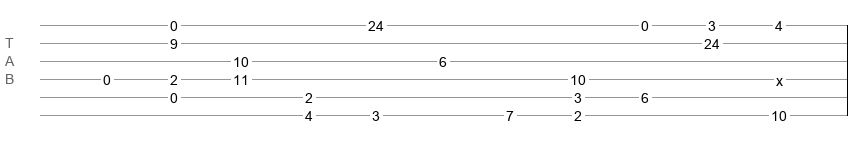0: (103, 72, 111, 82), (170, 90, 178, 100), (170, 18, 178, 28), (641, 18, 649, 28)
10: (233, 54, 249, 64), (570, 72, 586, 82), (771, 108, 787, 118)
11: (233, 72, 249, 82)
2: (170, 72, 178, 82), (305, 90, 313, 100), (574, 108, 582, 118)
24: (368, 18, 384, 28), (704, 36, 720, 46)
3: (372, 108, 380, 118), (574, 90, 582, 100), (708, 18, 716, 28)
4: (305, 108, 313, 118), (775, 18, 783, 28)
6: (439, 54, 447, 64), (641, 90, 649, 100)
7: (506, 108, 514, 118)
9: (170, 36, 178, 46)
x: (776, 73, 783, 81)
